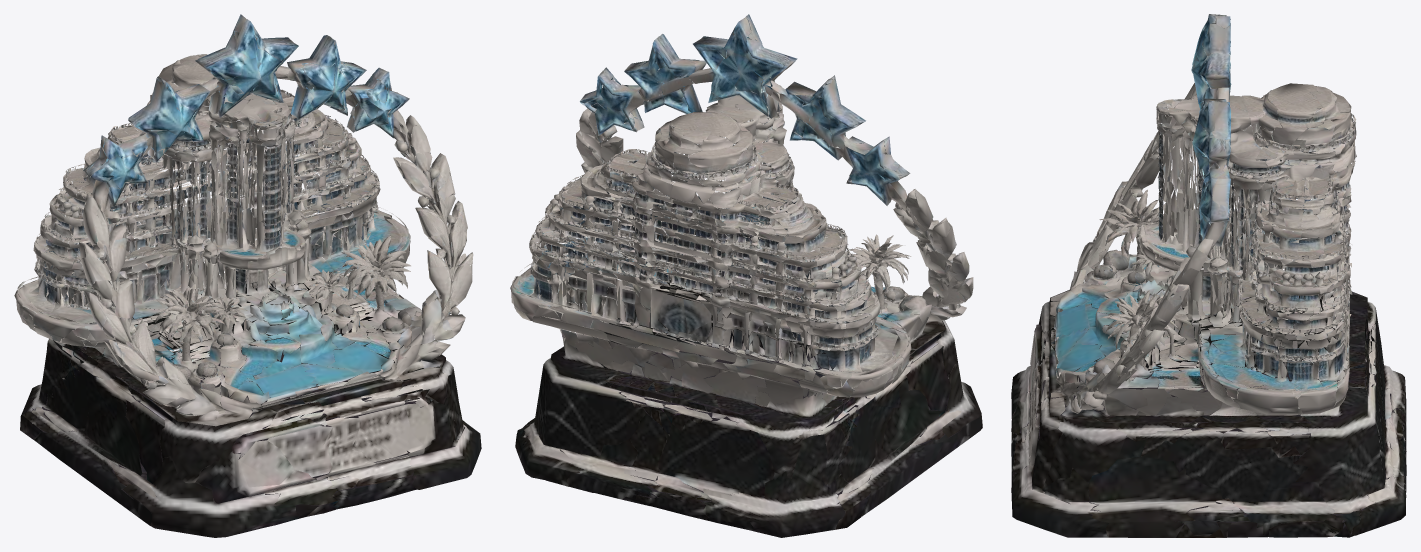
Rendered from award-georgi.glb.
The picture shows the model from 3 angles, left to right: view 1: azimuth 30°, elevation 25°; view 2: azimuth 150°, elevation 25°; view 3: azimuth 270°, elevation 25°; orthographic projection. The views are drawn at different scales.
Parts seen in each view (by area): view 1: Mesh_0; view 2: Mesh_0; view 3: Mesh_0.
Boxes of the visible parts, bbox=[...] form: Mesh_0: bbox=[14, 14, 481, 537]; Mesh_0: bbox=[510, 14, 982, 537]; Mesh_0: bbox=[1011, 14, 1406, 537].
Bounding box in the file's own units: 1.78 × 1.9 × 1.55.
Materials: 1 (1 with a texture image).
